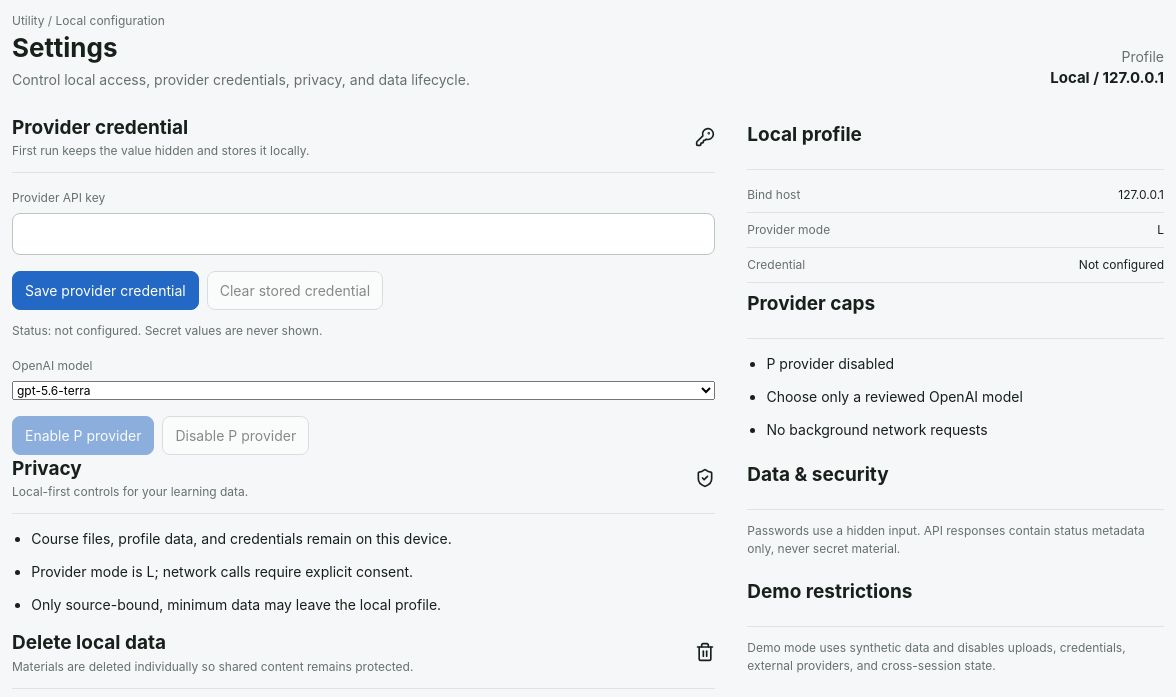
SettingsView › does not let the initial credential read overwrite a later successful save
Type "unit-test-secret" into the password field labelled "Provider API key" at [364, 234], box 12,213 -> 715,255
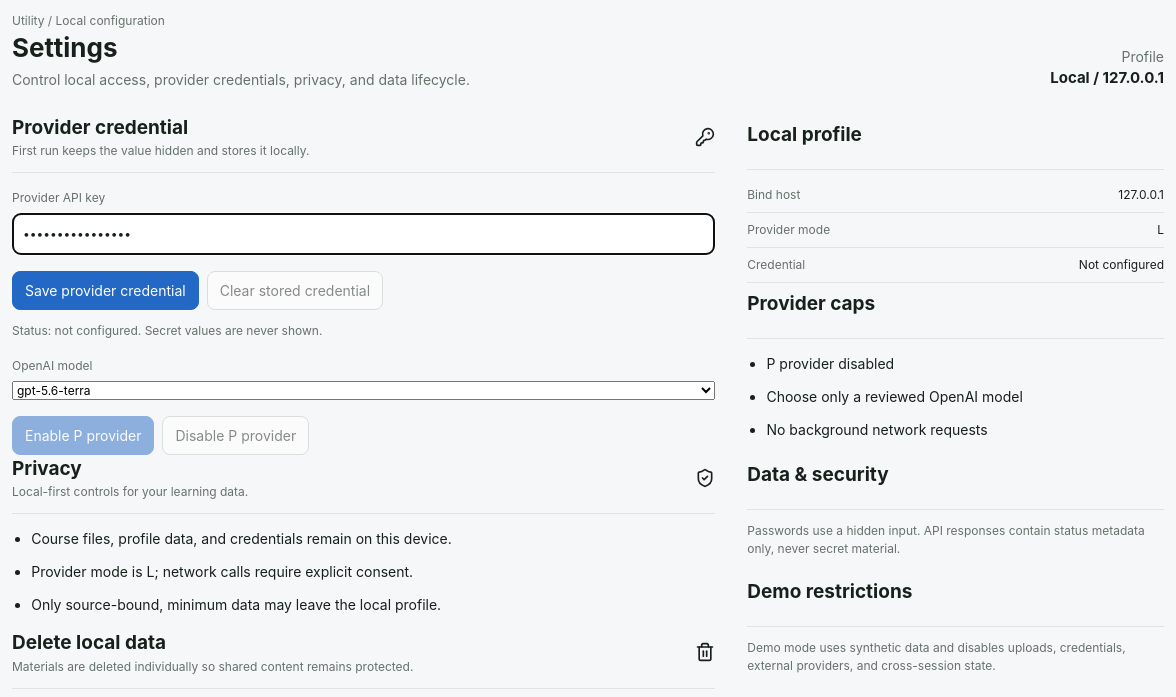
Click the button "Save provider credential" at [105, 290], box 12,271 -> 199,310
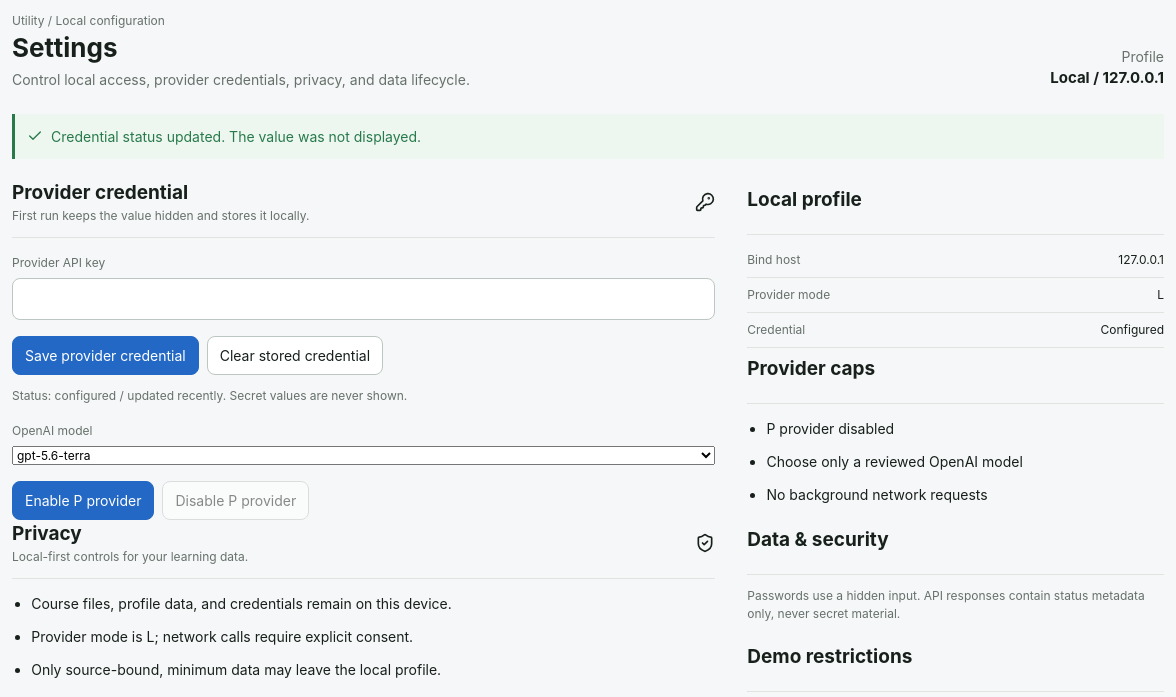
expect the text "Status: configured / updated recently. Secret values are never shown." is shown: met, box 12,388 -> 407,403
expect the button "Enable P provider" is enabled: met, box 12,481 -> 154,520
